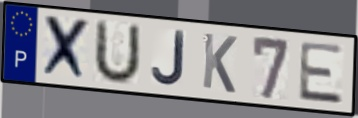7: (250, 33, 293, 102)
E: (296, 40, 346, 107)
J: (150, 29, 187, 88)
K: (200, 30, 239, 96)
U: (91, 17, 143, 87)
X: (39, 12, 92, 84)
